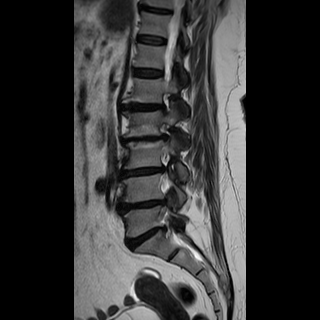RFS1: (154, 87, 177, 118)
RFS2: (152, 119, 180, 144)
